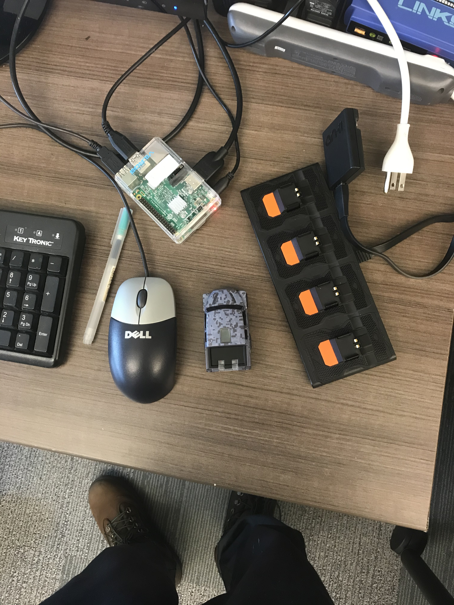MXT: (199, 286, 252, 372)
